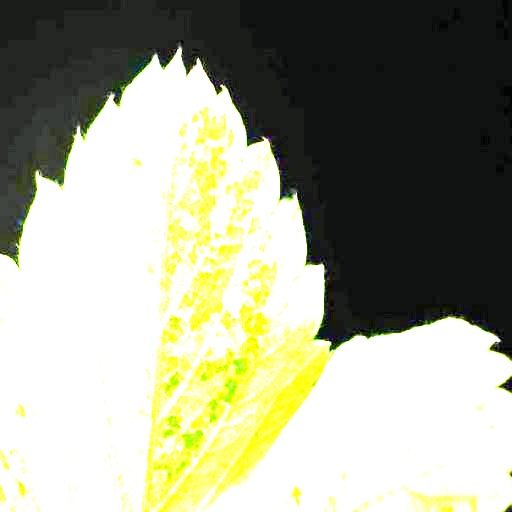Angular Leafspot: (0, 49, 332, 511), (207, 317, 511, 511)
